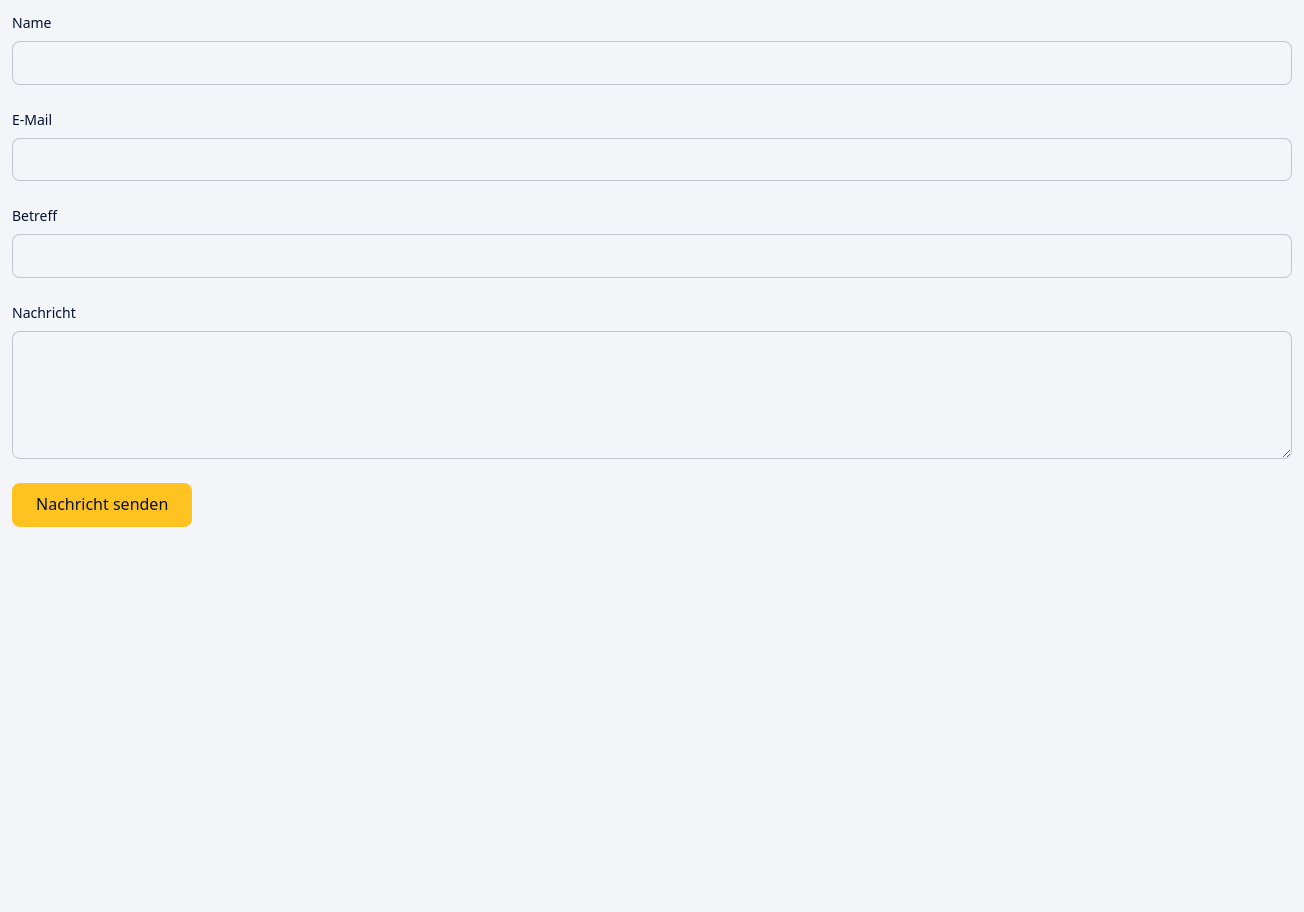
Test: ContactForm › blocks submission and shows errors when required fields are empty, including the subject
Click the button "Nachricht senden".
click(102, 505)  # box [12,483,192,527]
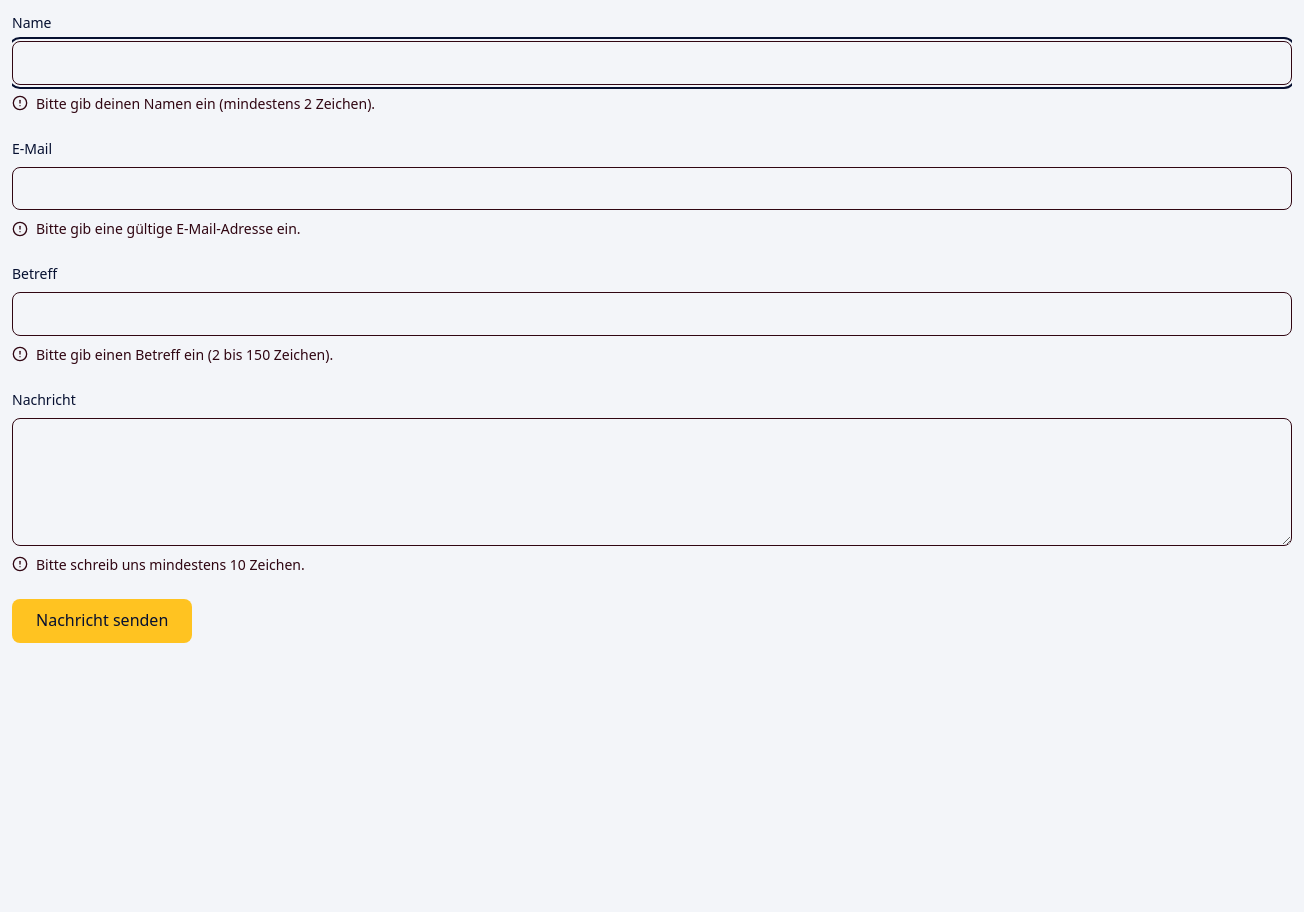
Now the text "Bitte gib deinen Namen ein (mindestens 2 Zeichen)." is shown, box [12,94,375,113]
Now the text "Bitte gib eine gültige E-Mail-Adresse ein." is shown, box [12,219,301,238]
Now the text "Bitte gib einen Betreff ein (2 bis 150 Zeichen)." is shown, box [12,345,333,364]
